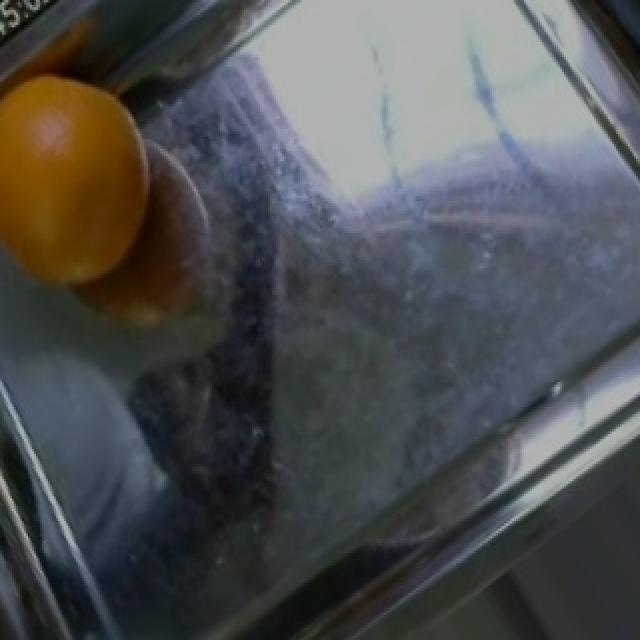Fruit: (0, 52, 174, 310)
